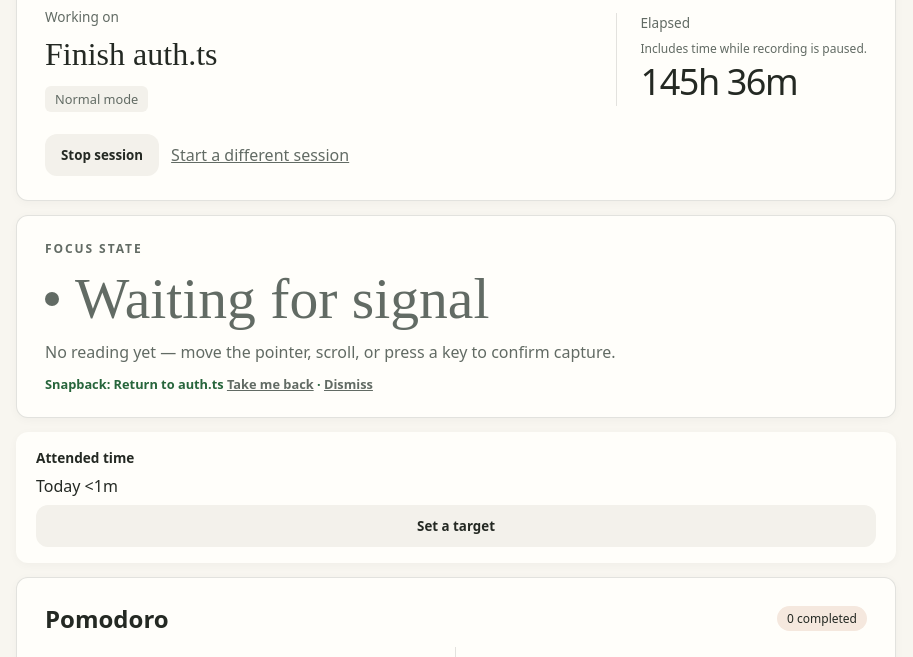
Test: Snapback note dismiss and restore › shows the note on a snapback event and clears it via dismiss_snapback
(page scrolled)
expect the heading "Focus state" is shown: met, box [45,240,142,257]
expect the text "Snapback: Return to auth.ts Take me back · Dismiss" is shown: met, box [45,375,373,393]
Step 1. Click the button "Dismiss" → (348, 384), box [324,375,373,393]
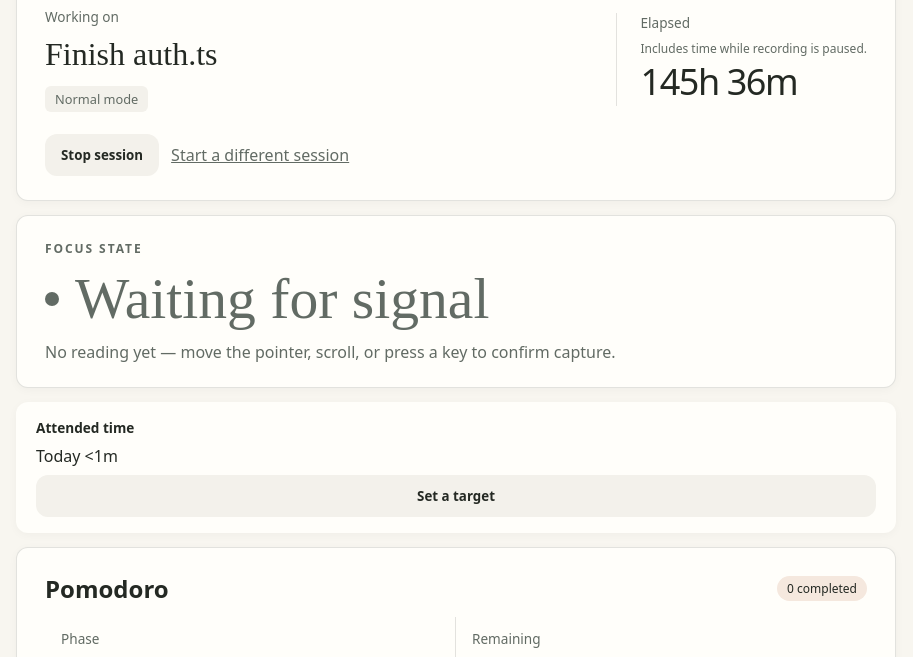
expect the text "Snapback: Return to auth.ts" is gone: met
